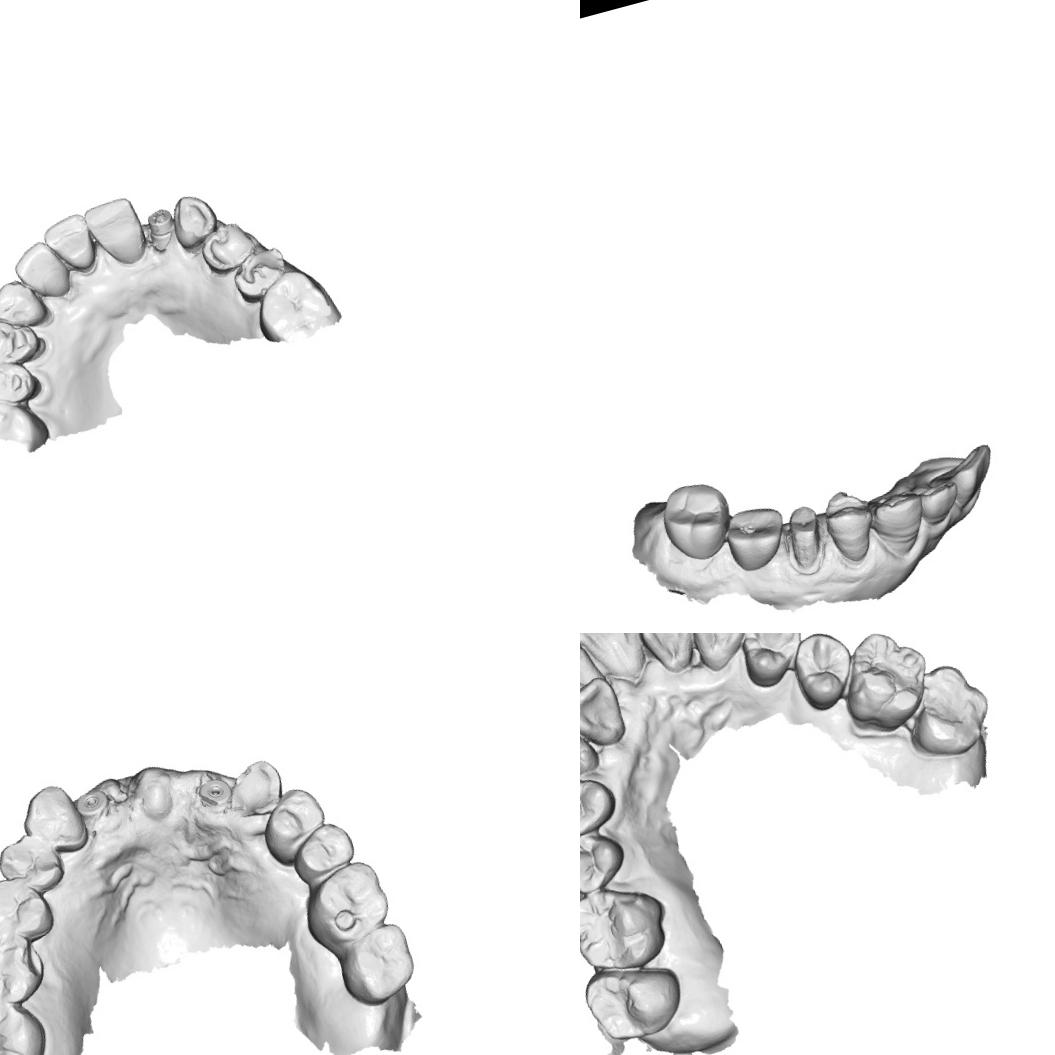canine: (14, 775, 90, 860), (864, 482, 934, 562), (220, 750, 295, 824), (938, 441, 1003, 510), (164, 188, 224, 252), (0, 268, 51, 336), (680, 633, 759, 675), (911, 475, 965, 528), (580, 707, 604, 790)
crown: (775, 499, 833, 578)
implant: (140, 204, 182, 253), (193, 770, 235, 818), (72, 780, 111, 824)
incisor: (80, 192, 151, 274), (580, 633, 658, 700), (7, 232, 75, 306), (38, 210, 98, 280), (580, 674, 630, 754), (580, 633, 620, 726), (631, 633, 702, 679)
molar: (827, 633, 944, 742), (897, 654, 1001, 764), (580, 949, 691, 1052), (580, 872, 679, 984), (292, 855, 400, 957), (330, 919, 423, 1013), (246, 260, 341, 347), (654, 473, 740, 568), (719, 500, 794, 574), (0, 912, 52, 1014), (0, 387, 55, 468), (0, 979, 55, 1055)
premolar: (252, 780, 338, 870), (783, 633, 861, 718), (284, 815, 363, 887), (816, 482, 882, 568), (0, 825, 69, 904), (729, 633, 813, 693), (0, 867, 59, 951), (226, 242, 294, 307), (580, 817, 631, 901), (194, 216, 260, 278), (580, 767, 622, 845), (0, 310, 44, 374), (0, 349, 43, 411)
